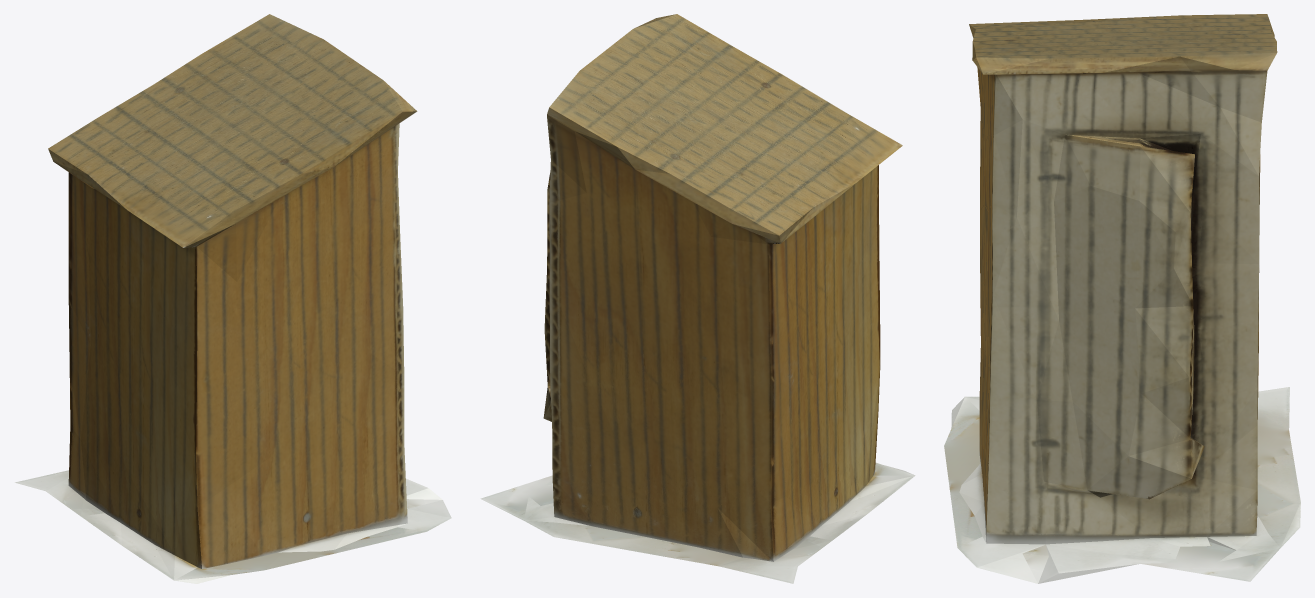
File: mdl_bat_ete_100.fbx
The picture shows the model from 3 angles, left to right: view 1: azimuth 30°, elevation 25°; view 2: azimuth 150°, elevation 25°; view 3: azimuth 270°, elevation 25°; orthographic projection. The views are drawn at different scales.
Parts seen in each view (by area): view 1: mdl_bat_ete_100; view 2: mdl_bat_ete_100; view 3: mdl_bat_ete_100.
Boxes of the visible parts, left/top/right/bottom form: mdl_bat_ete_100: left=15, top=14, right=451, bottom=583; mdl_bat_ete_100: left=480, top=14, right=915, bottom=583; mdl_bat_ete_100: left=944, top=14, right=1300, bottom=583.
Size of the model in its own units: 3.53 by 4.44 by 2.86.
Materials: 1 (1 with a texture image).
